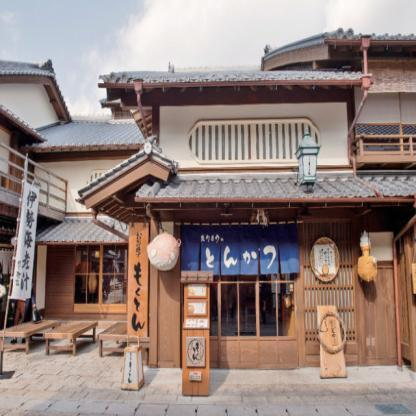Blind: (181, 220, 300, 275), (361, 59, 416, 93)
Building Outline: (75, 27, 416, 368)
Door: (181, 238, 298, 368)
Facade: (153, 81, 416, 368)
Floor Slab: (153, 171, 416, 176)
Ground Floor: (153, 176, 416, 368)
Roof: (77, 135, 416, 201), (261, 27, 416, 70), (99, 62, 361, 83)
Shop: (181, 270, 213, 395), (127, 223, 149, 338), (317, 306, 347, 378), (294, 125, 322, 187), (146, 232, 181, 271), (358, 230, 378, 282)
Top Floor: (153, 81, 416, 171)
Window: (189, 123, 319, 160), (359, 77, 416, 153)
Window Outline: (186, 118, 321, 165)
